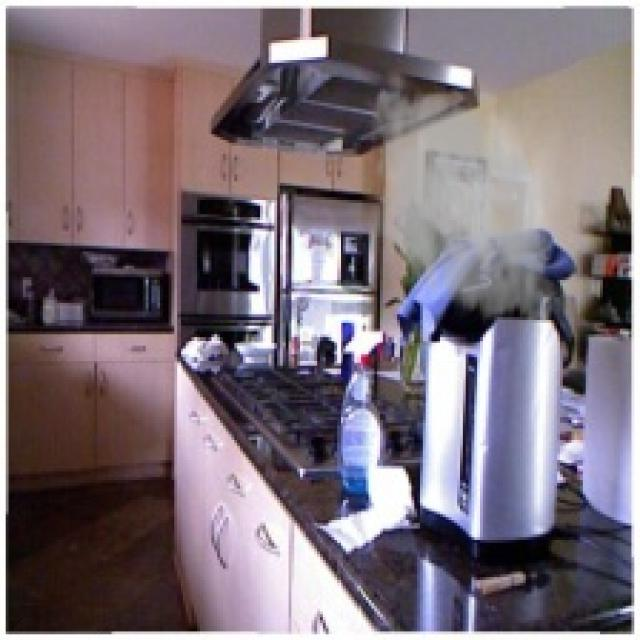smoke: (352, 77, 572, 334)
